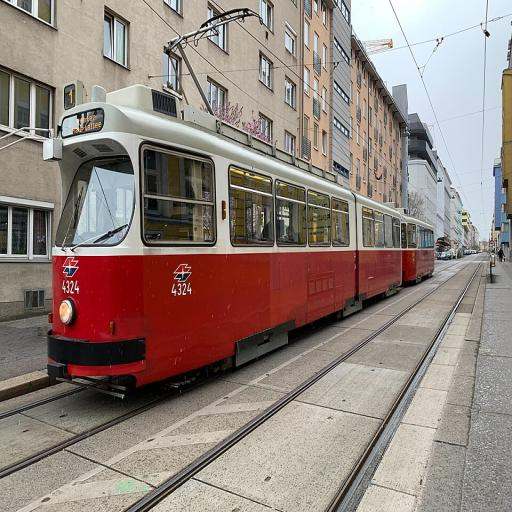E2-Tram: (43, 80, 437, 398)
